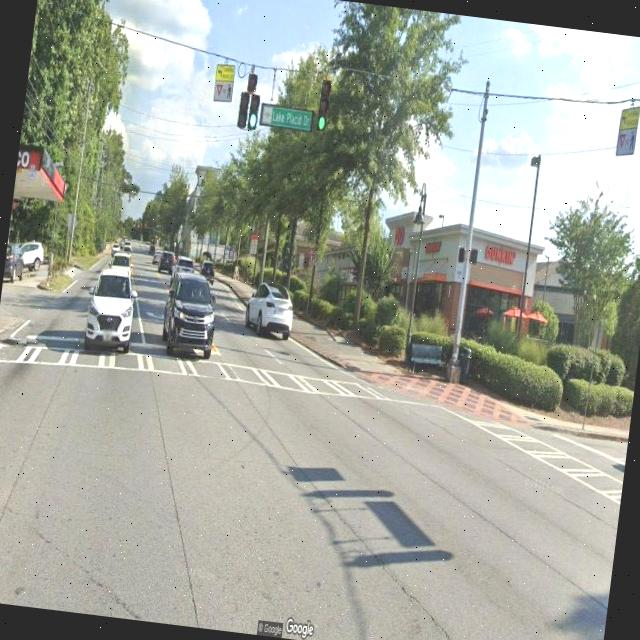seating: (406, 339, 449, 382)
trash_can: (455, 346, 471, 386)
